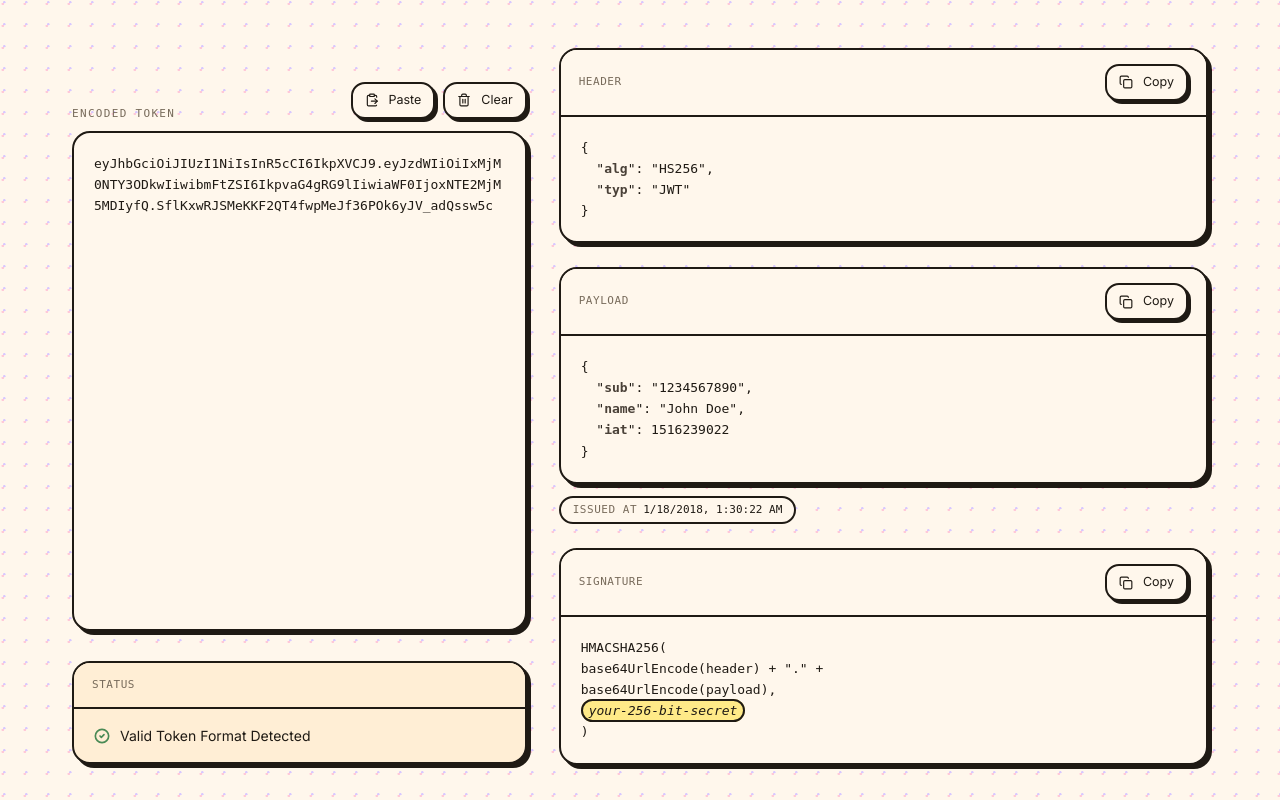
Test: JwtDecoderRoute › shows error for wrong part count
Replace the text in the text box with placeholder "Paste your JWT here…" with "only.two": (299, 381) 72,131 -> 527,631
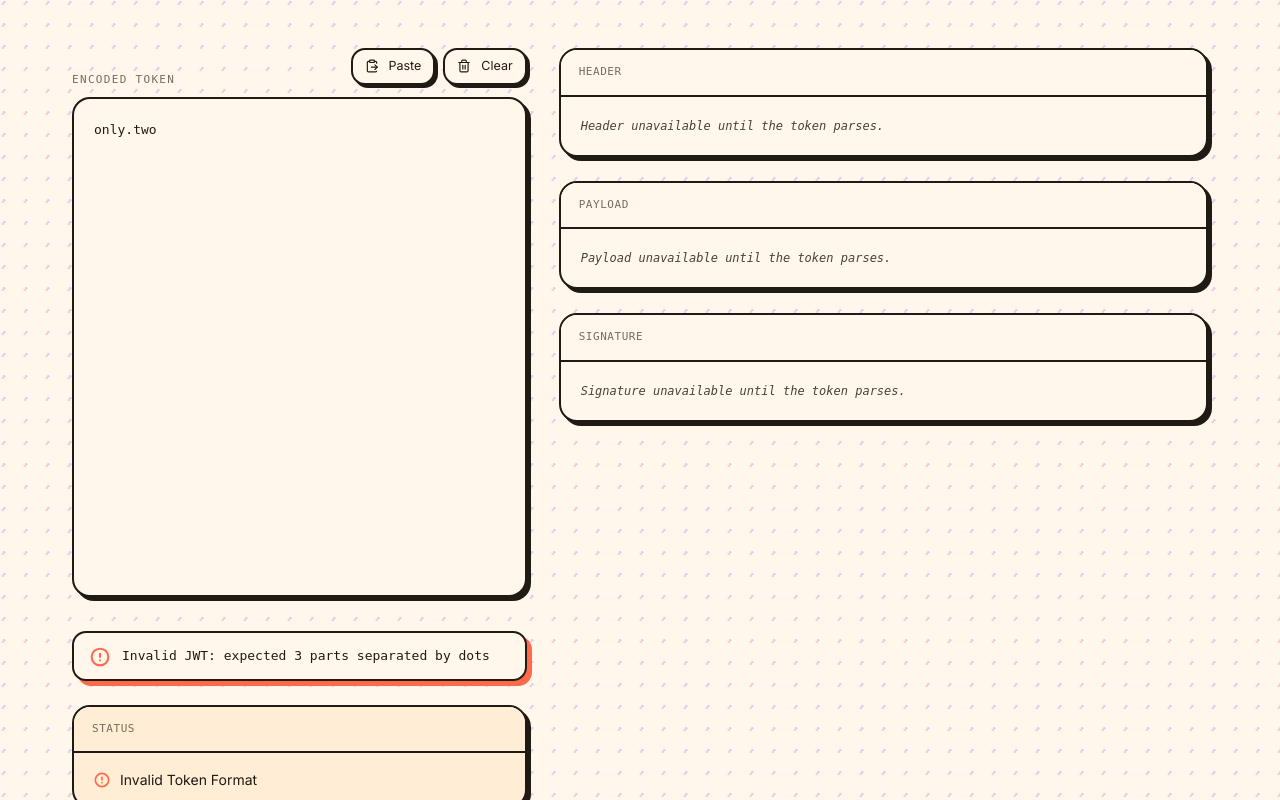
Now the text "Invalid JWT: expected 3 parts separated by dots" is shown, box 122,645 -> 509,666
